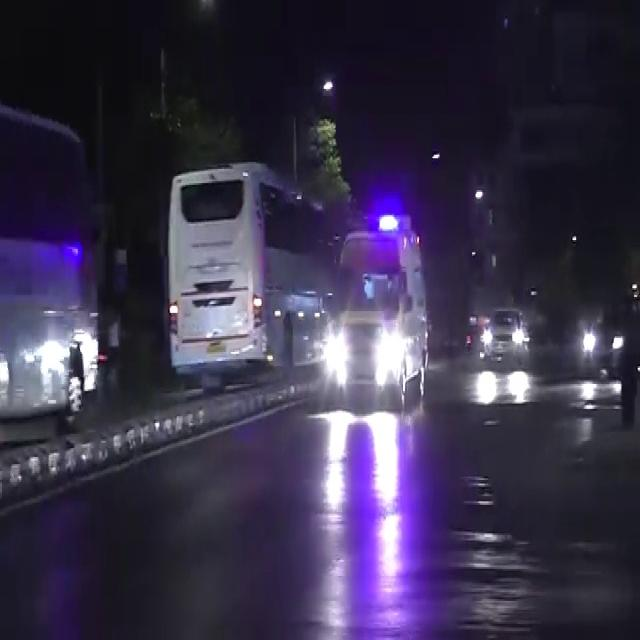ambulance: (323, 193, 435, 401)
